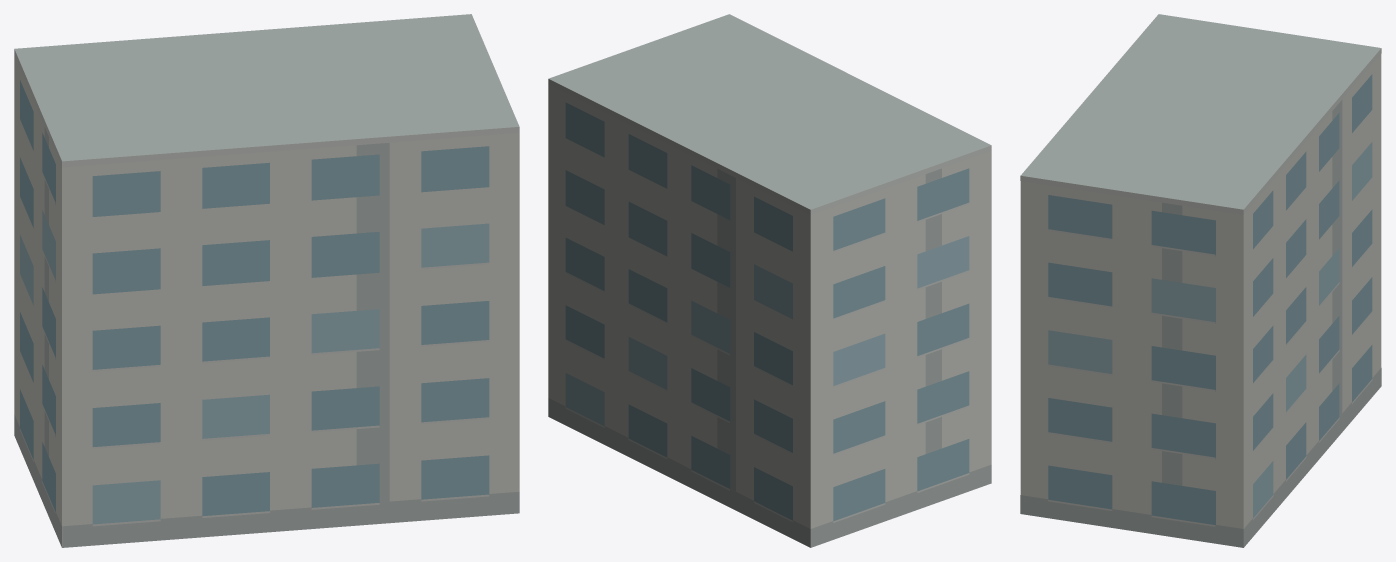
File: residential-71bc1b5a-cda8-4337-9c5f-5cc31a3f7bab.glb
3 renders of one model, left to right at view 1: azimuth 30°, elevation 25°; view 2: azimuth 150°, elevation 25°; view 3: azimuth 270°, elevation 25°, orthographic. The views are drawn at different scales.
Visible parts, largest first — view 1: residential-71bc1b5a-cda8-4337-9c5f-5cc31a3f7bab.tmp; view 2: residential-71bc1b5a-cda8-4337-9c5f-5cc31a3f7bab.tmp; view 3: residential-71bc1b5a-cda8-4337-9c5f-5cc31a3f7bab.tmp.
Part boxes in pixels (bbox=[...]): residential-71bc1b5a-cda8-4337-9c5f-5cc31a3f7bab.tmp: bbox=[14, 14, 519, 547]; residential-71bc1b5a-cda8-4337-9c5f-5cc31a3f7bab.tmp: bbox=[548, 14, 991, 547]; residential-71bc1b5a-cda8-4337-9c5f-5cc31a3f7bab.tmp: bbox=[1020, 14, 1381, 547].
Bounding box in the file's own units: 18.93 × 15.25 × 14.76.
